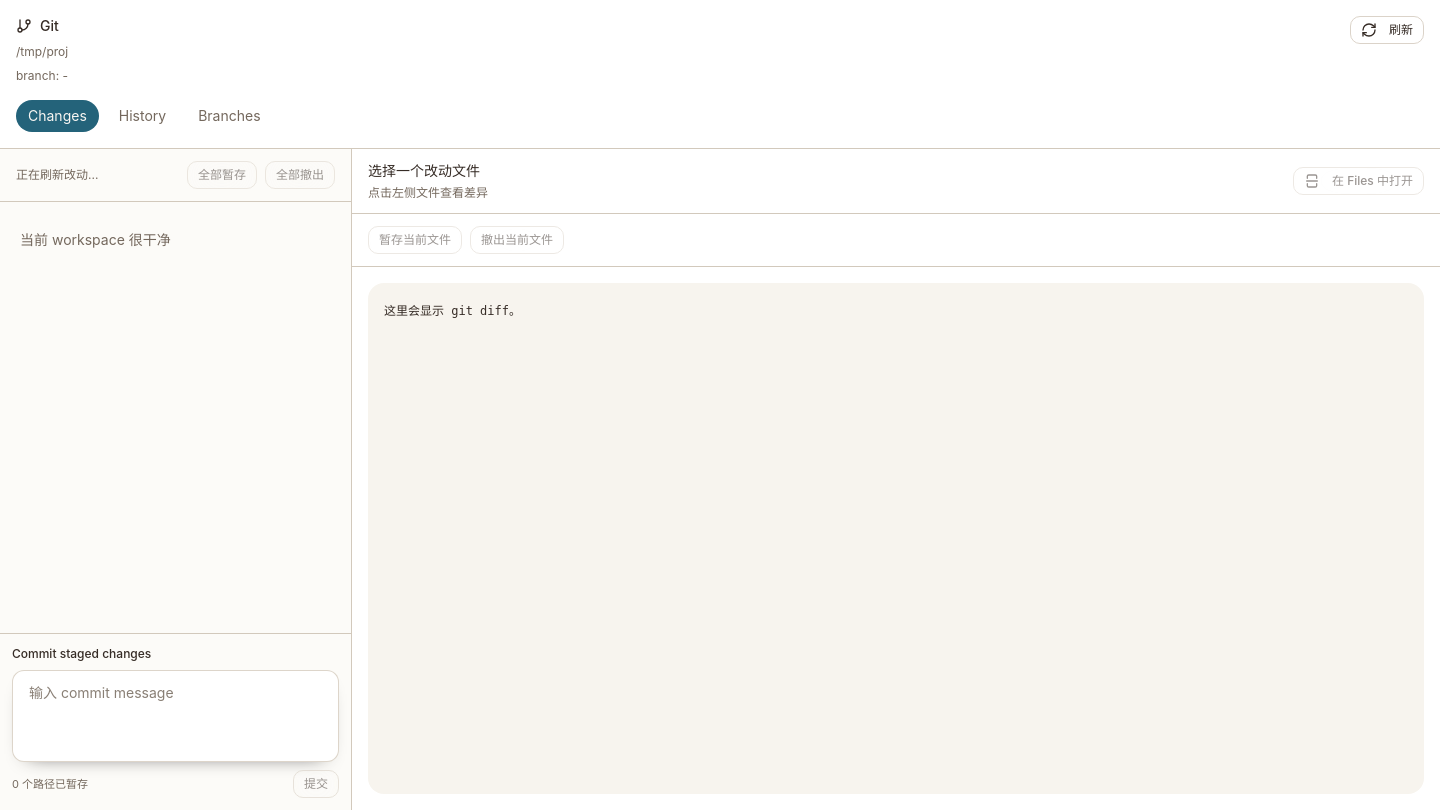
Scenario: WorkspaceGitPanel › 切换到 history 和 branches 视图
Click the button "History": click(142, 116) x1=107 y1=100 x2=178 y2=132
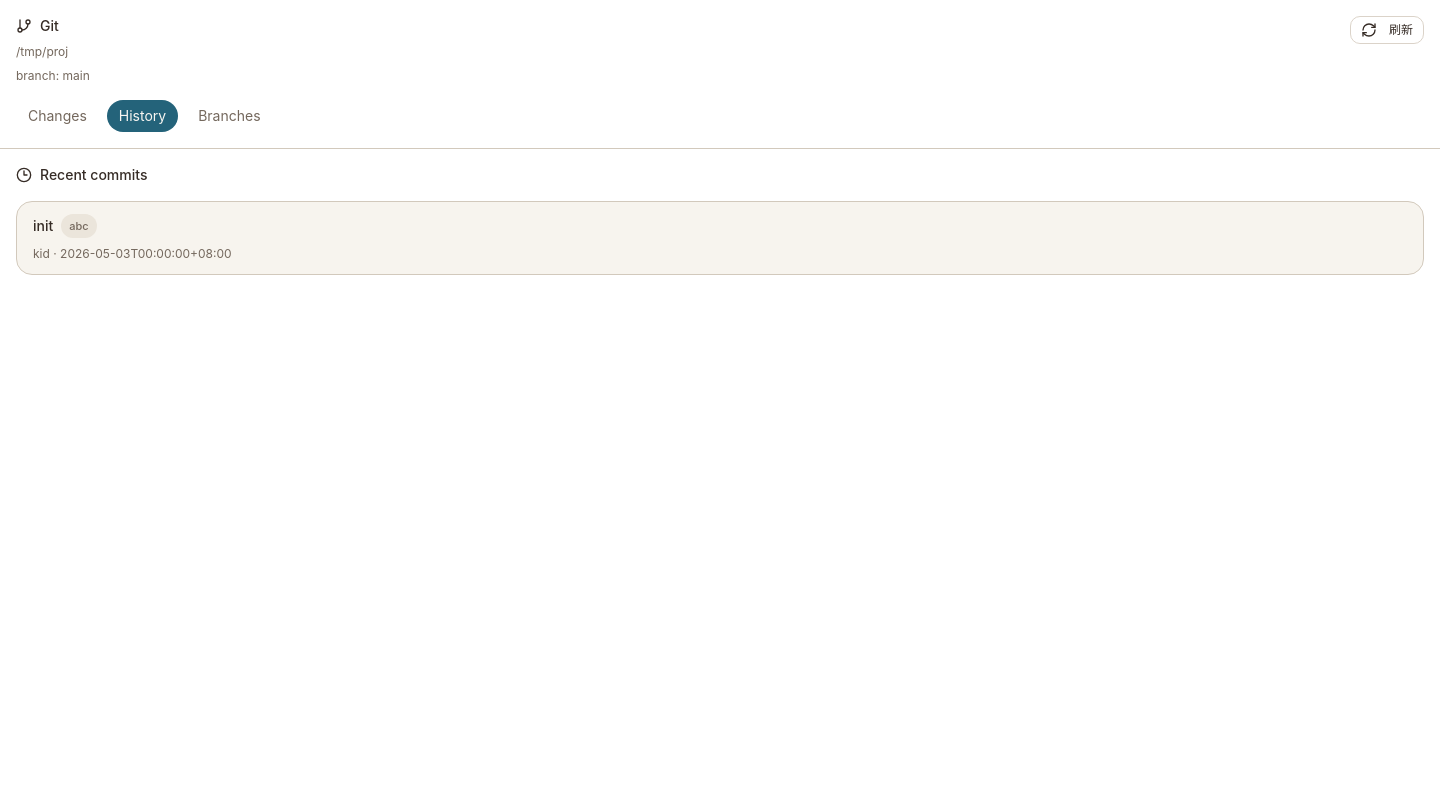
Result: the text "Recent commits" is shown at x1=16 y1=166 x2=148 y2=183
Result: the text "init" is shown at x1=33 y1=216 x2=53 y2=236
Click the button "Branches": click(229, 116) x1=186 y1=100 x2=273 y2=132
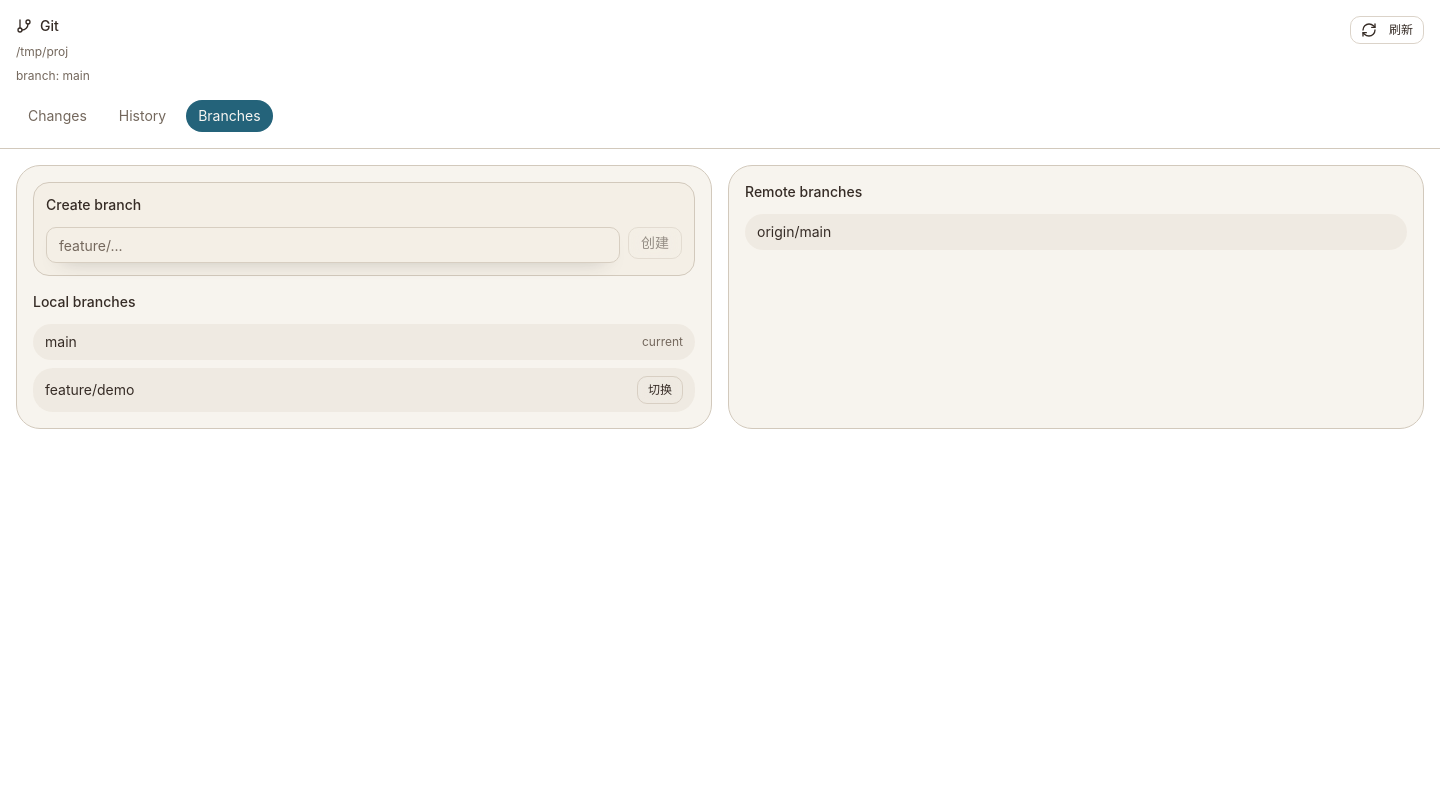
Result: the text "Local branches" is shown at x1=33 y1=293 x2=136 y2=310
Result: the text "feature/demo" is shown at x1=45 y1=380 x2=134 y2=400
